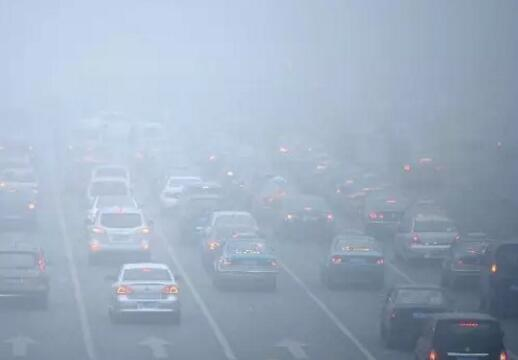car: (379, 281, 455, 351), (105, 263, 184, 327), (439, 229, 513, 293), (419, 310, 510, 360), (196, 208, 265, 270), (391, 205, 463, 264), (85, 206, 155, 263), (210, 236, 281, 292), (1, 236, 50, 311), (323, 232, 386, 288), (269, 193, 336, 245), (356, 185, 424, 233), (177, 193, 229, 241), (252, 180, 313, 220), (84, 192, 144, 230), (1, 170, 38, 226), (158, 174, 208, 215), (84, 178, 137, 213), (88, 164, 135, 194), (125, 122, 167, 154)
